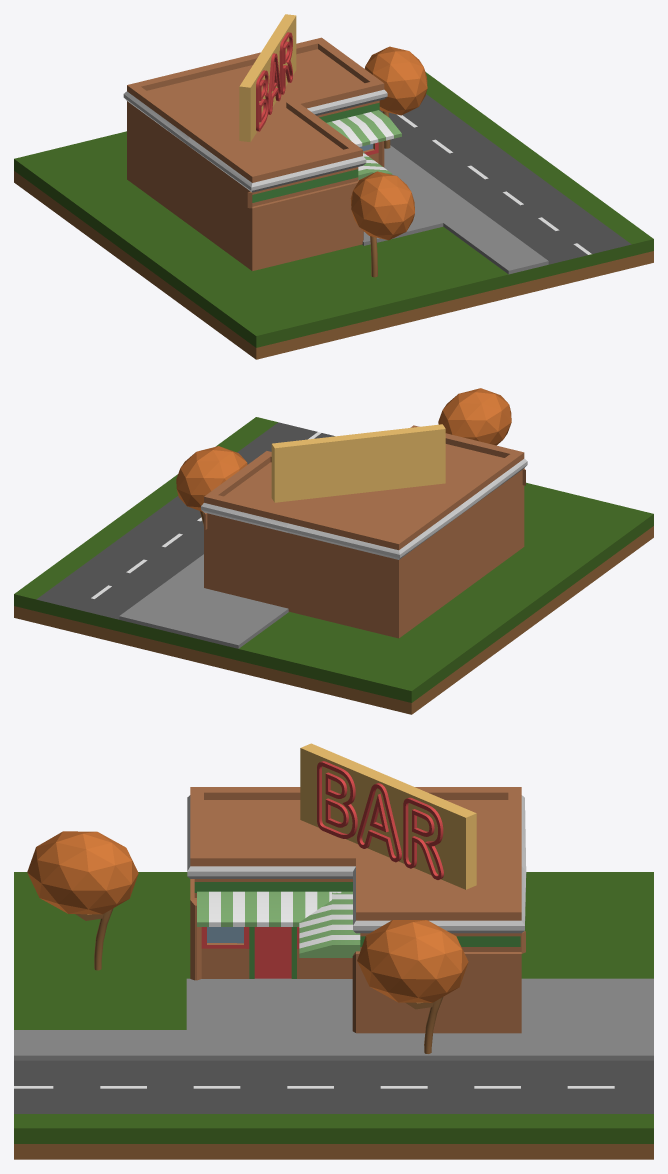
File: Bar_1246.gltf
3 renders of one model, top to bottom at view 1: azimuth 30°, elevation 25°; view 2: azimuth 150°, elevation 25°; view 3: azimuth 270°, elevation 25°, orthographic. The views are drawn at different scales.
Visible parts, largest first — view 1: node-0; view 2: node-0; view 3: node-0.
Part boxes in pixels (bbox=[...]): node-0: bbox=[14, 14, 653, 359]; node-0: bbox=[14, 388, 653, 714]; node-0: bbox=[14, 743, 653, 1159].
Bounding box in the file's own units: 133 × 53.45 × 140.
